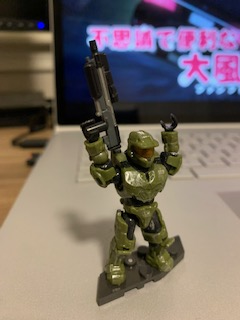chief: (82, 112, 184, 287)
rifle: (80, 39, 123, 153)
spartan: (80, 110, 182, 285)
up: (80, 111, 183, 206)
